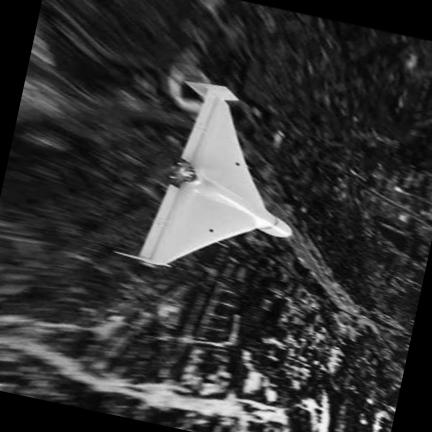Shahed: (115, 79, 292, 266)
